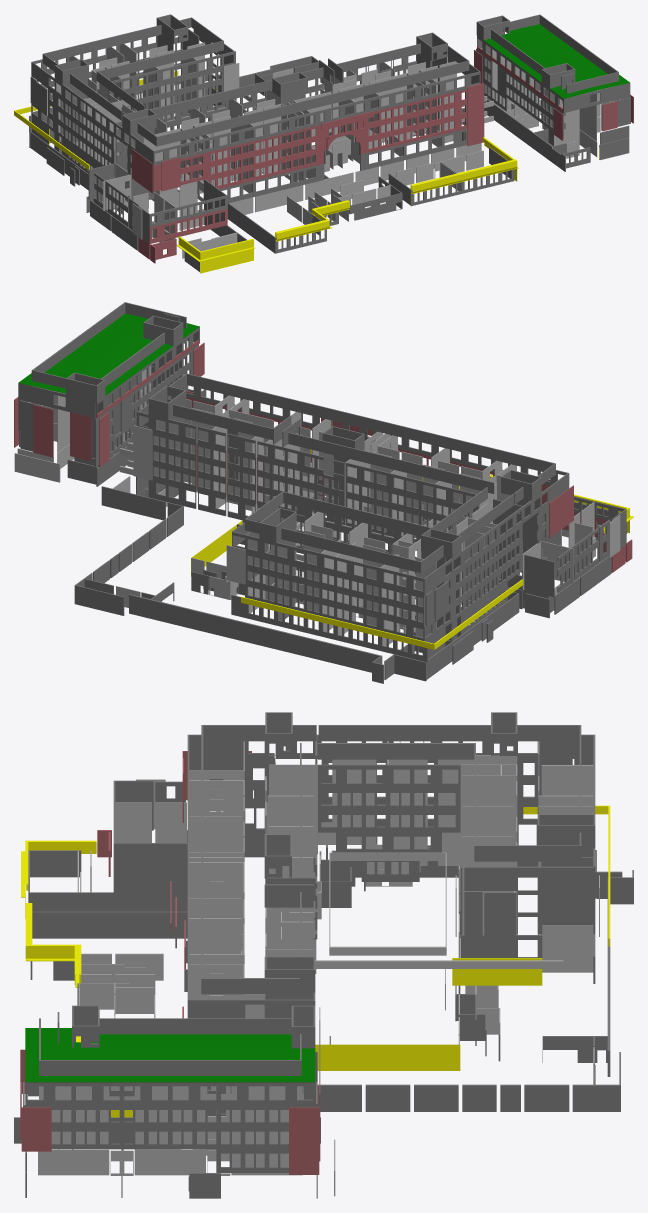
Rendered from teaching-building_4.gltf.
3 renders of one model, top to bottom at view 1: azimuth 30°, elevation 25°; view 2: azimuth 150°, elevation 25°; view 3: azimuth 270°, elevation 25°, orthographic. The views are drawn at different scales.
Visible parts, largest first — view 1: 100 [605151], 常规 - 300mm [502369], 常规 - 300mm [487436], 常规 - 300mm [487437], 常规 - 300mm 2 [463753], 常规 - 300mm 2 [479952], 常规 - 300mm [502353], 常规 - 300mm [357141], 常规 - 300mm [598865], 常规 - 300mm [502341], 常规 - 300mm [487439], 常规 - 300mm [487474] (+46 smaller); view 2: 450 [355379], 常规 - 300mm [502369], 100 [605151], 常规 - 300mm [502353], 常规 - 300mm [487438], 常规 - 300mm [357142], 常规 - 300mm [463755], 常规 - 300mm [479954], 常规 - 300mm [437321], 常规 - 300mm [502341], 常规 - 300mm [502325], 常规 - 300mm [487474] (+41 smaller); view 3: 100 [605151], 常规 - 300mm [604961], 常规 - 300mm [605292], 常规 - 50mm [314889], 常规 - 300mm [604127], 常规 - 300mm [603054], 常规 - 300mm [605295], 常规 - 300mm [502349], 常规 - 300mm [502345], 常规 - 300mm [487996], 常规 - 300mm [465049], 常规 - 300mm [480817] (+88 smaller).
Boxes of the visible parts, left/top/right/bottom form: 100 [605151]: left=484, top=24, right=629, bottom=98; 常规 - 300mm [502369]: left=157, top=60, right=469, bottom=146; 常规 - 300mm [487436]: left=154, top=109, right=328, bottom=165; 常规 - 300mm [487437]: left=323, top=71, right=480, bottom=122; 常规 - 300mm 2 [463753]: left=154, top=136, right=328, bottom=191; 常规 - 300mm 2 [479952]: left=154, top=124, right=328, bottom=178; 常规 - 300mm [502353]: left=150, top=67, right=323, bottom=117; 常规 - 300mm [357141]: left=360, top=128, right=467, bottom=170; 常规 - 300mm [598865]: left=484, top=99, right=565, bottom=171; 常规 - 300mm [502341]: left=96, top=41, right=222, bottom=80; 常规 - 300mm [487439]: left=110, top=51, right=235, bottom=95; 常规 - 300mm [487474]: left=32, top=62, right=127, bottom=145; 450 [355379]: left=129, top=594, right=380, bottom=672; 常规 - 300mm [502369]: left=186, top=373, right=554, bottom=471; 100 [605151]: left=18, top=313, right=199, bottom=395; 常规 - 300mm [502353]: left=288, top=432, right=494, bottom=493; 常规 - 300mm [487438]: left=232, top=531, right=425, bottom=595; 常规 - 300mm [357142]: left=231, top=595, right=427, bottom=662; 常规 - 300mm [463755]: left=245, top=567, right=424, bottom=626; 常规 - 300mm [479954]: left=245, top=552, right=424, bottom=610; 常规 - 300mm [437321]: left=245, top=583, right=423, bottom=640; 常规 - 300mm [502341]: left=283, top=491, right=432, bottom=536; 常规 - 300mm [502325]: left=281, top=528, right=421, bottom=573; 常规 - 300mm [487474]: left=424, top=496, right=538, bottom=594; 100 [605151]: left=25, top=1028, right=315, bottom=1082; 常规 - 300mm [604961]: left=25, top=1082, right=313, bottom=1105; 常规 - 300mm [605292]: left=39, top=1060, right=299, bottom=1075; 常规 - 50mm [314889]: left=315, top=1044, right=460, bottom=1070; 常规 - 300mm [604127]: left=23, top=1105, right=313, bottom=1127; 常规 - 300mm [603054]: left=51, top=1127, right=288, bottom=1149; 常规 - 300mm [605295]: left=99, top=1018, right=291, bottom=1034; 常规 - 300mm [502349]: left=318, top=725, right=490, bottom=741; 常规 - 300mm [502345]: left=318, top=743, right=474, bottom=759; 常规 - 300mm [487996]: left=318, top=764, right=460, bottom=788; 常规 - 300mm [465049]: left=318, top=810, right=460, bottom=832; 常规 - 300mm [480817]: left=318, top=788, right=460, bottom=810.
Size of the model in its own units: 153 by 31.7 by 108.
